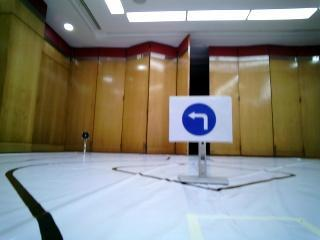left: (175, 97, 220, 142)
